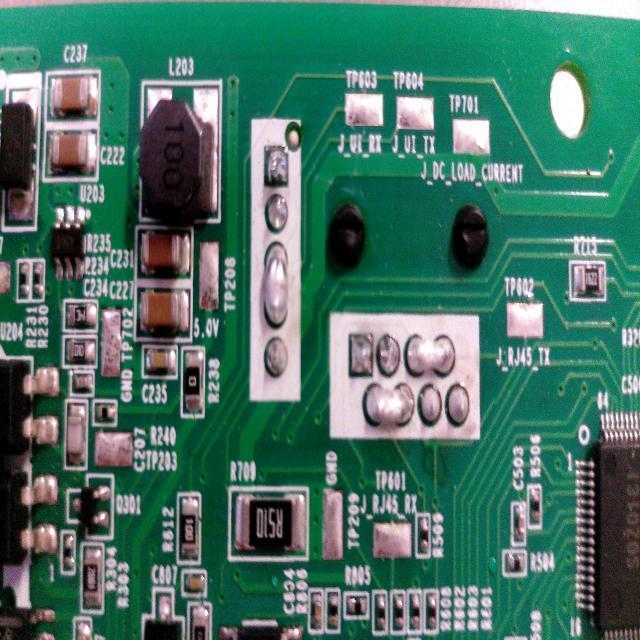Soldering shorted: (260, 238, 293, 336), (402, 330, 458, 378), (363, 382, 416, 429)
